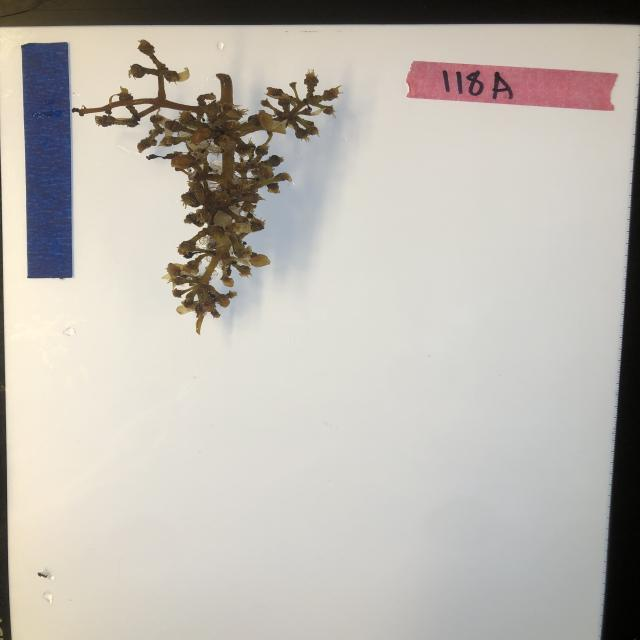index: (403, 58, 620, 113)
measure_label: (20, 42, 74, 280)
rachis_cluster: (74, 38, 346, 334)
